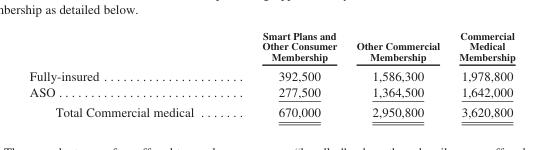table: (28, 29, 514, 119)
table column: (28, 29, 227, 119), (227, 29, 345, 119), (345, 29, 448, 119), (448, 29, 514, 119)
table column header: (28, 29, 514, 65)
table row: (28, 29, 514, 65), (28, 65, 514, 83), (28, 83, 514, 101), (28, 101, 514, 119)
